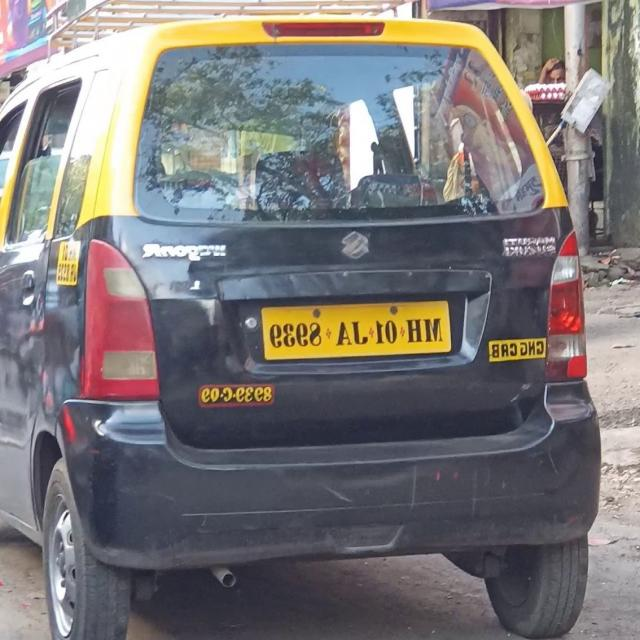license_plate: (257, 294, 457, 371)
